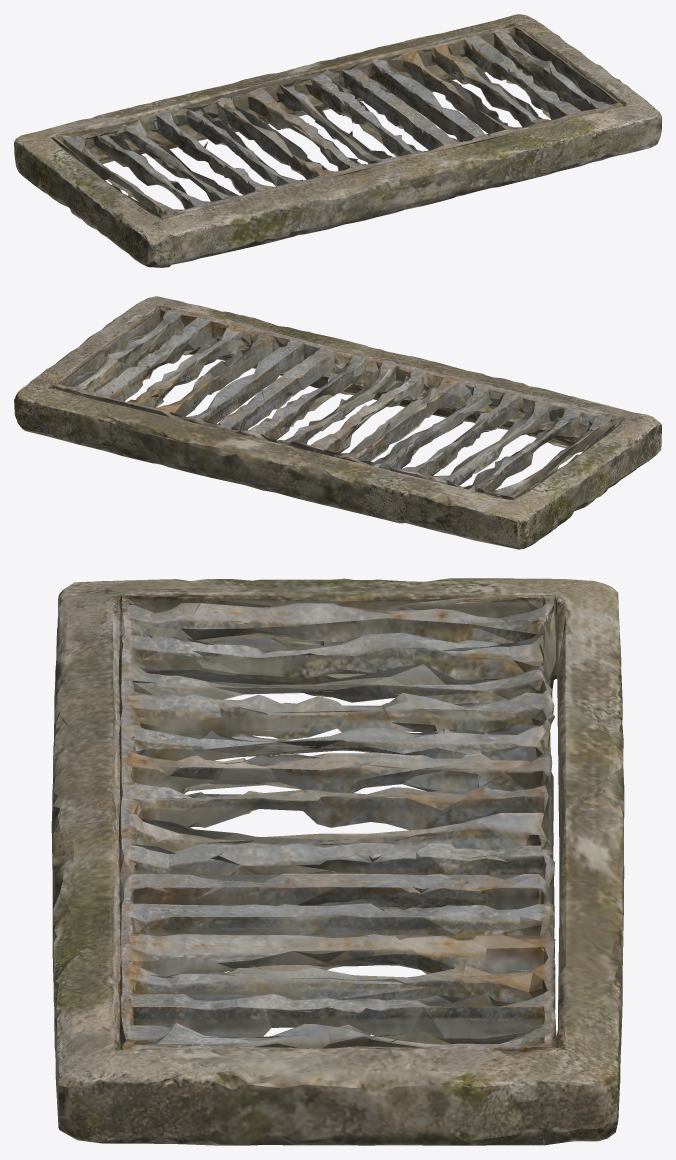
Rendered from w5grating.glb.
3 views of the same model, one above another, from view 1: azimuth 30°, elevation 25°; view 2: azimuth 150°, elevation 25°; view 3: azimuth 270°, elevation 25° (orthographic). The views are drawn at different scales.
Parts seen in each view (by area): view 1: output_unwrapped; view 2: output_unwrapped; view 3: output_unwrapped.
Boxes of the visible parts, x1=… form: output_unwrapped: x1=14, y1=14, x2=661, y2=267; output_unwrapped: x1=14, y1=296, x2=661, y2=549; output_unwrapped: x1=51, y1=578, x2=624, y2=1145.
Bounding box in the file's own units: 1 × 0.0793 × 0.4798.
1 material, 1 textured.
